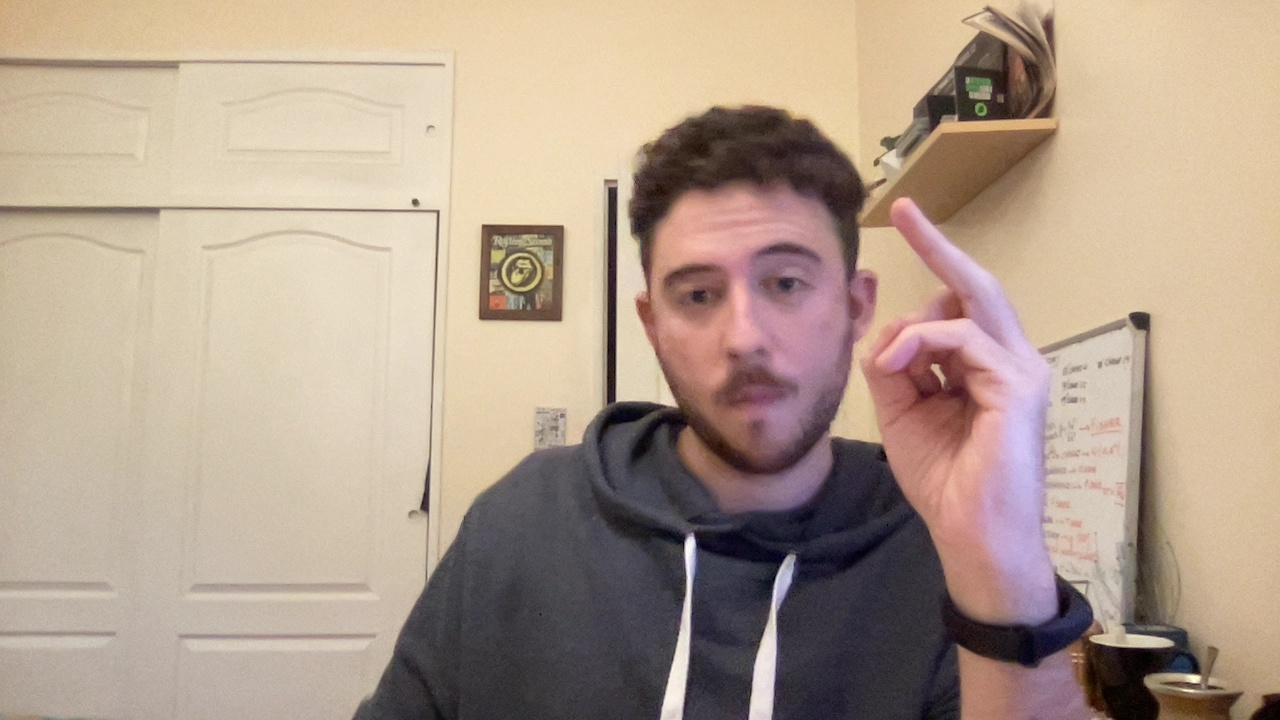anular: (848, 194, 1060, 557)
